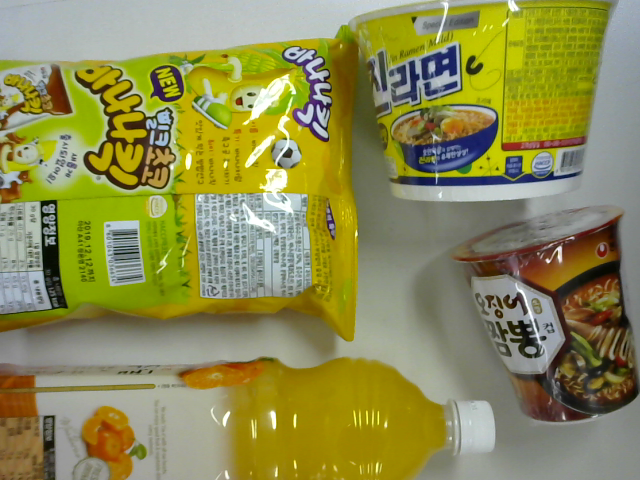Banana_Kick: (1, 36, 371, 350)
Jeju_Tangerine_1.5L: (3, 346, 495, 480)
Jinlamyeon_Mild_Taste_Large_Cup: (339, 2, 623, 202)
Ojjam: (451, 196, 640, 430)
